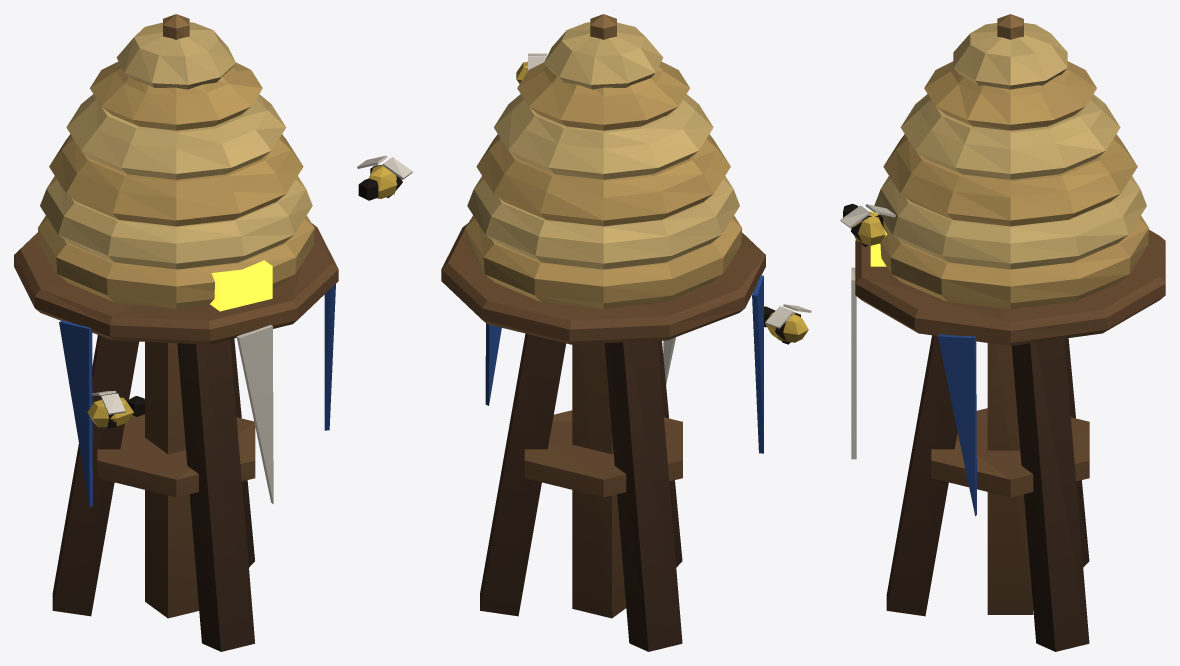
Rendered from long_hum.glb.
The picture shows the model from 3 angles, left to right: view 1: azimuth 30°, elevation 25°; view 2: azimuth 150°, elevation 25°; view 3: azimuth 270°, elevation 25°; orthographic projection.
Parts seen in each view (by area): view 1: long_hum; view 2: long_hum; view 3: long_hum.
Part boxes in pixels (x1,y1,x2,y2): long_hum: [14, 14, 412, 651]; long_hum: [441, 14, 811, 651]; long_hum: [840, 14, 1165, 651].
Bounding box in the file's own units: 0.5329 × 1 × 0.4988.
